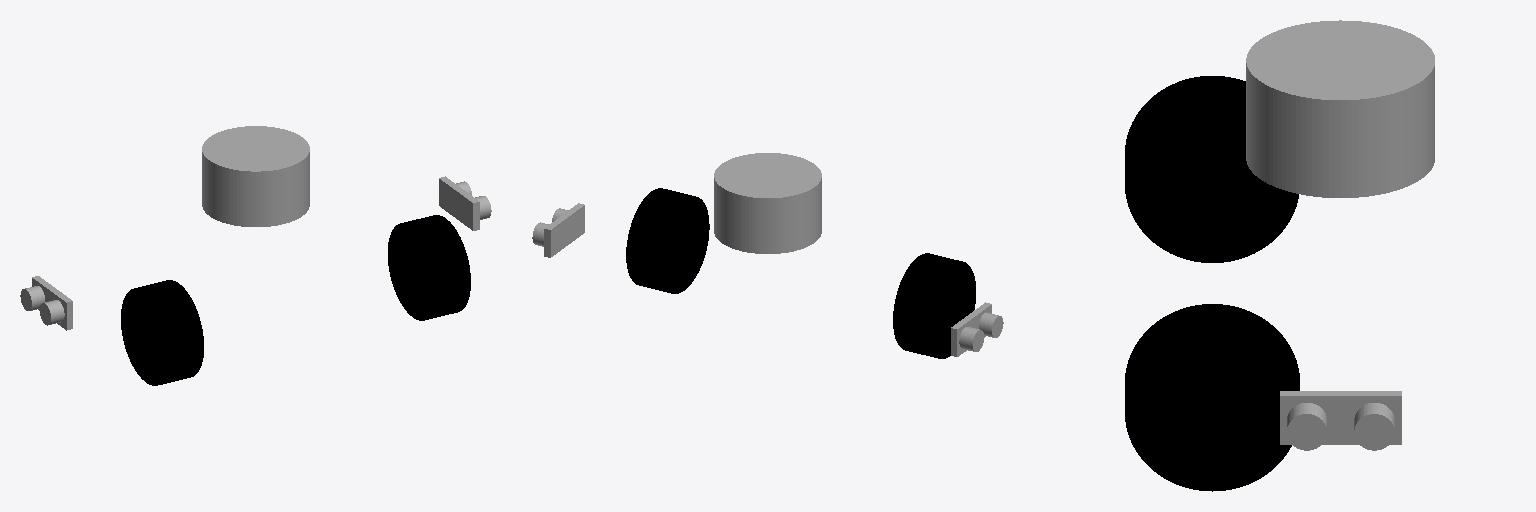
The robot description file, URDF, robot "assembly_3":
<?xml version="1.0"?>
<robot name="assembly_3" xmlns:xacro="http://www.ros.org/wiki/xacro">

<material name="silver">
  <color rgba="0.700 0.700 0.700 1.000"/>
</material>

<material name="black">
  <color rgba="0 0 0 1"/>
</material>

<!-- BASE LINK -->
<link name="base_link">
  <inertial>
    <origin xyz="-6.745525765719935e-05 0.0012816498954868177 0.0354047315459432" rpy="0 0 0"/>
    <mass value="37.821366170820795"/>
    <inertia ixx="0.23125" iyy="0.223709" izz="0.423982" ixy="-0.000124" iyz="0.000747" ixz="-3.9e-05"/>
  </inertial>
  <visual>
    <origin xyz="0 0 0" rpy="0 0 0"/>
    <geometry>
      <mesh filename="package://r2d10/meshes/base_link.stl" scale="0.001 0.001 0.001"/>
    </geometry>
    <material name="silver"/> 
  </visual>
  <collision>
    <origin xyz="0 0 0" rpy="0 0 0"/>
    <geometry>
      <mesh filename="package://r2d10/meshes/base_link.stl" scale="0.001 0.001 0.001"/>
    </geometry>
  </collision>
</link>

<!-- CASTER LINK -->
<link name="caster_1">
  <inertial>
    <origin xyz="0.0 0.11 -0.0043996518255540636" rpy="0 0 0"/>
    <mass value="0.0707011858312227"/>
    <inertia ixx="6e-06" iyy="6e-06" izz="1e-05" ixy="0.0" iyz="-0.0" ixz="0.0"/>
  </inertial>
  <visual>
    <origin xyz="-0.0 -0.0 -0.0" rpy="0 0 0"/>
    <geometry>
      <mesh filename="package://r2d10/meshes/caster_1.stl" scale="0.001 0.001 0.001"/>
    </geometry>
    <material name="silver"/>
  </visual>
  <collision>
    <origin xyz="-0.0 -0.0 -0.0" rpy="0 0 0"/>
    <geometry>
      <mesh filename="package://r2d10/meshes/caster_1.stl" scale="0.001 0.001 0.001"/>
    </geometry>
  </collision>
</link>

<!-- LEFT WHEEL LINK -->
<link name="left_wheel_1">
  <inertial>
    <origin xyz="-0.012500000000000011 0.0 0.0" rpy="0 0 0"/>
    <mass value="0.6512177959195155"/>
    <inertia ixx="0.000344" iyy="0.000206" izz="0.000206" ixy="0.0" iyz="-0.0" ixz="0.0"/>
  </inertial>
  <visual>
    <origin xyz="0.085 0.0475 -0.02" rpy="0 0 0"/>
    <geometry>
      <mesh filename="package://r2d10/meshes/left_wheel_1.stl" scale="0.001 0.001 0.001"/>
    </geometry>
    <material name="black"/>
  </visual>
  <collision>
    <origin xyz="0.085 0.0475 -0.02" rpy="0 0 0"/>
    <geometry>
      <mesh filename="package://r2d10/meshes/left_wheel_1.stl" scale="0.001 0.001 0.001"/>
    </geometry>
  </collision>
</link>

<!-- RIGHT WHEEL LINK -->
<link name="right_wheel_1">
  <inertial>
    <origin xyz="0.012500000000000108 0.0 -6.938893903907228e-18" rpy="0 0 0"/>
    <mass value="0.6512177959195155"/>
    <inertia ixx="0.000344" iyy="0.000206" izz="0.000206" ixy="0.0" iyz="0.0" ixz="0.0"/>
  </inertial>
  <visual>
    <origin xyz="-0.09 0.0475 -0.02" rpy="0 0 0"/>
    <geometry>
      <mesh filename="package://r2d10/meshes/right_wheel_1.stl" scale="0.001 0.001 0.001"/>
    </geometry>
    <material name="black"/>
  </visual>
  <collision>
    <origin xyz="-0.09 0.0475 -0.02" rpy="0 0 0"/>
    <geometry>
      <mesh filename="package://r2d10/meshes/right_wheel_1.stl" scale="0.001 0.001 0.001"/>
    </geometry>
  </collision>
</link>

<!-- ULTRASONIC FORWARD LINK -->
<link name="ultrasonic_forward_1">
  <inertial>
    <origin xyz="-6.89984745874354e-13 0.005799256348663379 -6.55503359925369e-11" rpy="0 0 0"/>
    <mass value="0.06306919012201337"/>
    <inertia ixx="3e-06" iyy="1.2e-05" izz="1.2e-05" ixy="-0.0" iyz="0.0" ixz="-0.0"/>
  </inertial>
  <visual>
    <origin xyz="-0.0 -0.15 -0.035" rpy="0 0 0"/>
    <geometry>
      <mesh filename="package://r2d10/meshes/ultrasonic_forward_1.stl" scale="0.001 0.001 0.001"/>
    </geometry>
    <material name="silver"/>
  </visual>
  <collision>
    <origin xyz="-0.0 -0.15 -0.035" rpy="0 0 0"/>
    <geometry>
      <mesh filename="package://r2d10/meshes/ultrasonic_forward_1.stl" scale="0.001 0.001 0.001"/>
    </geometry>
  </collision>
</link>

<!-- ULTRASONIC LEFT LINK -->
<link name="ultrasonic_left_1">
  <inertial>
    <origin xyz="-0.005799256348663379 -6.899762237296075e-13 -6.55503359925369e-11" rpy="0 0 0"/>
    <mass value="0.06306919012201337"/>
    <inertia ixx="1.2e-05" iyy="3e-06" izz="1.2e-05" ixy="0.0" iyz="-0.0" ixz="-0.0"/>
  </inertial>
  <visual>
    <origin xyz="0.15 -0.0 -0.035" rpy="0 0 0"/>
    <geometry>
      <mesh filename="package://r2d10/meshes/ultrasonic_left_1.stl" scale="0.001 0.001 0.001"/>
    </geometry>
    <material name="silver"/>
  </visual>
  <collision>
    <origin xyz="0.15 -0.0 -0.035" rpy="0 0 0"/>
    <geometry>
      <mesh filename="package://r2d10/meshes/ultrasonic_left_1.stl" scale="0.001 0.001 0.001"/>
    </geometry>
  </collision>
</link>

<!-- ULTRASONIC RIGHT LINK -->
<link name="ultrasonic_right_1">
  <inertial>
    <origin xyz="0.005799256348663379 6.899932680191004e-13 -6.55503359925369e-11" rpy="0 0 0"/>
    <mass value="0.06306919012201337"/>
    <inertia ixx="1.2e-05" iyy="3e-06" izz="1.2e-05" ixy="0.0" iyz="0.0" ixz="0.0"/>
  </inertial>
  <visual>
    <origin xyz="-0.15 -0.0 -0.035" rpy="0 0 0"/>
    <geometry>
      <mesh filename="package://r2d10/meshes/ultrasonic_right_1.stl" scale="0.001 0.001 0.001"/>
    </geometry>
    <material name="silver"/>
  </visual>
  <collision>
    <origin xyz="-0.15 -0.0 -0.035" rpy="0 0 0"/>
    <geometry>
      <mesh filename="package://r2d10/meshes/ultrasonic_right_1.stl" scale="0.001 0.001 0.001"/>
    </geometry>
  </collision>
</link>

<!-- LIDAR LINK -->
<link name="lidar_1">
  <inertial>
    <origin xyz="7.385233546074017e-18 0.0 0.01999999999999999" rpy="0 0 0"/>
    <mass value="1.2084136142033137"/>
    <inertia ixx="0.000531" iyy="0.000531" izz="0.00074" ixy="0.0" iyz="0.0" ixz="0.0"/>
  </inertial>
  <visual>
    <origin xyz="-0.0 -0.0 -0.07" rpy="0 0 0"/>
    <geometry>
      <mesh filename="package://r2d10/meshes/lidar_1.stl" scale="0.001 0.001 0.001"/>
    </geometry>
    <material name="silver"/>
  </visual>
  <collision>
    <origin xyz="-0.0 -0.0 -0.07" rpy="0 0 0"/>
    <geometry>
      <mesh filename="package://r2d10/meshes/lidar_1.stl" scale="0.001 0.001 0.001"/>
    </geometry>
  </collision>
</link>

<!-- JOINTS -->
<joint name="Rigid_1" type="fixed">
  <origin xyz="0.0 0.0 0.0" rpy="0 0 0"/>
  <parent link="base_link"/>
  <child link="caster_1"/>
</joint>

<joint name="Revolute_2" type="continuous">
  <origin xyz="-0.085 -0.0475 0.02" rpy="0 0 0"/>
  <parent link="base_link"/>
  <child link="left_wheel_1"/>
  <axis xyz="-1.0 0.0 0.0"/>
</joint>

<joint name="Revolute_3" type="continuous">
  <origin xyz="0.09 -0.0475 0.02" rpy="0 0 0"/>
  <parent link="base_link"/>
  <child link="right_wheel_1"/>
  <axis xyz="-1.0 0.0 0.0"/>
</joint>

<joint name="Rigid_5" type="fixed">
  <origin xyz="0.0 0.15 0.035" rpy="0 0 0"/>
  <parent link="base_link"/>
  <child link="ultrasonic_forward_1"/>
</joint>

<joint name="Rigid_6" type="fixed">
  <origin xyz="-0.15 0.0 0.035" rpy="0 0 0"/>
  <parent link="base_link"/>
  <child link="ultrasonic_left_1"/>
</joint>

<joint name="Rigid_7" type="fixed">
  <origin xyz="0.15 0.0 0.035" rpy="0 0 0"/>
  <parent link="base_link"/>
  <child link="ultrasonic_right_1"/>
</joint>

<joint name="Rigid_9" type="fixed">
  <origin xyz="0.0 0.0 0.07" rpy="0 0 0"/>
  <parent link="base_link"/>
  <child link="lidar_1"/>
</joint>

<!-- GAZEBO SENSOR PLUGINS - MUST BE OUTSIDE LINK DEFINITIONS -->

<!-- LIDAR SENSOR -->
<gazebo reference="lidar_1">
  <sensor name="lidar_1" type="gpu_lidar">
    <update_rate>20</update_rate>
    <lidar>
      <scan>
        <horizontal>
          <samples>720</samples>
          <resolution>1</resolution>
          <min_angle>-3.14159</min_angle>
          <max_angle>3.14159</max_angle>
        </horizontal>
        <vertical>
          <samples>1</samples>
          <resolution>1</resolution>
          <min_angle>0</min_angle>
          <max_angle>0</max_angle>
        </vertical>
      </scan>
      <range>
        <min>0.12</min>
        <max>8.0</max>
        <resolution>0.01</resolution>
      </range>
    </lidar>
    <always_on>1</always_on>
    <visualize>true</visualize>

<!-- ULTRASONIC FORWARD SENSOR -->
<gazebo reference="ultrasonic_forward_1">
  <sensor name="ultrasonic_forward_sensor" type="gpu_ray">
    <topic>ultrasonic_forward</topic>
    <ros>
  <frame_name>ultrasonic_forward_1</frame_name>
  <use_tf_prefix>false</use_tf_prefix>
</ros>
    <update_rate>10</update_rate>
    <ray>
      <scan>
        <horizontal>
          <samples>5</samples>
          <resolution>1</resolution>
          <min_angle>-0.12</min_angle>
          <max_angle>0.12</max_angle>
        </horizontal>
        <vertical>
          <samples>5</samples>
          <resolution>1</resolution>
          <min_angle>-0.12</min_angle>
          <max_angle>0.12</max_angle>
        </vertical>
      </scan>
      <range>
        <min>0.02</min>
        <max>4.0</max>
        <resolution>0.01</resolution>
      </range>
    </ray>
    <always_on>1</always_on>
    <visualize>true</visualize>
  </sensor>
</gazebo>

<!-- ULTRASONIC LEFT SENSOR -->
<gazebo reference="ultrasonic_left_1">
  <sensor name="ultrasonic_left_sensor" type="gpu_ray">
    <topic>ultrasonic_left</topic>
    <ros>
  <frame_name>ultrasonic_left_1</frame_name>
  <use_tf_prefix>false</use_tf_prefix>
</ros>
    <update_rate>10</update_rate>
    <ray>
      <scan>
        <horizontal>
          <samples>5</samples>
          <resolution>1</resolution>
          <min_angle>-0.12</min_angle>
          <max_angle>0.12</max_angle>
        </horizontal>
        <vertical>
          <samples>5</samples>
          <resolution>1</resolution>
          <min_angle>-0.12</min_angle>
          <max_angle>0.12</max_angle>
        </vertical>
      </scan>
      <range>
        <min>0.02</min>
        <max>4.0</max>
        <resolution>0.01</resolution>
      </range>
    </ray>
    <always_on>1</always_on>
    <visualize>true</visualize>
  </sensor>
</gazebo>

<!-- ULTRASONIC RIGHT SENSOR -->
<gazebo reference="ultrasonic_right_1">
  <sensor name="ultrasonic_right_sensor" type="gpu_ray">
    <topic>ultrasonic_right</topic>
    <ros>
  <frame_name>ultrasonic_right_1</frame_name>
  <use_tf_prefix>false</use_tf_prefix>
</ros>
    <update_rate>10</update_rate>
    <ray>
      <scan>
        <horizontal>
          <samples>5</samples>
          <resolution>1</resolution>
          <min_angle>-0.12</min_angle>
          <max_angle>0.12</max_angle>
        </horizontal>
        <vertical>
          <samples>5</samples>
          <resolution>1</resolution>
          <min_angle>-0.12</min_angle>
          <max_angle>0.12</max_angle>
        </vertical>
      </scan>
      <range>
        <min>0.02</min>
        <max>4.0</max>
        <resolution>0.01</resolution>
      </range>
    </ray>
    <always_on>1</always_on>
    <visualize>true</visualize>
  </sensor>
</gazebo>

    <!-- ROS2 topic plugin -->
    <plugin name="gazebo_ros_laser" filename="libgazebo_ros_laser.so">
      <topicName>scan</topicName>
      <frameName>lidar_1</frameName>
    </plugin>
  </sensor>
</gazebo>

<!-- DIFFERENTIAL DRIVE CONTROLLER PLUGIN -->
<gazebo>
  <plugin filename="gz-sim-diff-drive-system" name="gz::sim::systems::DiffDrive">
    <left_joint>Revolute_2</left_joint>
    <right_joint>Revolute_3</right_joint>
    <wheel_separation>0.175</wheel_separation>
    <wheel_radius>0.04</wheel_radius>
    <odom_publish_frequency>50</odom_publish_frequency>
    <topic>cmd_vel</topic>
    <odom_topic>odometry</odom_topic>
    <frame_id>odom</frame_id>
    <child_frame_id>base_link</child_frame_id>
  </plugin>
</gazebo>

<!-- JOINT STATE PUBLISHER PLUGIN -->
<gazebo>
  <plugin filename="gz-sim-joint-state-publisher-system" name="gz::sim::systems::JointStatePublisher">
  </plugin>
</gazebo>

<!-- POSE PUBLISHER PLUGIN -->
<gazebo>
  <plugin filename="gz-sim-pose-publisher-system" name="gz::sim::systems::PosePublisher">
    <publish_link_pose>true</publish_link_pose>
    <use_pose_vector_msg>true</use_pose_vector_msg>
    <static_publisher>false</static_publisher>
    <static_update_frequency>1</static_update_frequency>
  </plugin>
</gazebo>

</robot>

--- Render facts (derived) ---
Views: 3 orthographic renders of the robot side by side, from view 1: azimuth 30°, elevation 25°; view 2: azimuth 150°, elevation 25°; view 3: azimuth 270°, elevation 25°.
Model assembly_3 with 8 links and 7 joints (2 continuous, 5 fixed), rooted at base_link, posed all joints at 0.
Links seen in each view (by area): view 1: lidar_1, left_wheel_1, right_wheel_1, ultrasonic_right_1, ultrasonic_left_1; view 2: lidar_1, right_wheel_1, left_wheel_1, ultrasonic_left_1, ultrasonic_right_1; view 3: lidar_1, right_wheel_1, left_wheel_1, ultrasonic_right_1.
Link boxes in pixels (<box>): lidar_1: <box>202,126,309,226</box>; left_wheel_1: <box>121,280,203,385</box>; right_wheel_1: <box>388,215,470,320</box>; ultrasonic_right_1: <box>439,176,491,230</box>; ultrasonic_left_1: <box>20,276,72,330</box>; lidar_1: <box>714,153,821,253</box>; right_wheel_1: <box>626,188,709,293</box>; left_wheel_1: <box>893,253,975,358</box>; ultrasonic_left_1: <box>951,302,1003,356</box>; ultrasonic_right_1: <box>532,203,584,257</box>; lidar_1: <box>1246,20,1434,197</box>; right_wheel_1: <box>1125,304,1299,491</box>; left_wheel_1: <box>1125,76,1298,262</box>; ultrasonic_right_1: <box>1280,391,1401,450</box>.
Bounding box of the posed robot: 0.33 × 0.115 × 0.1225 m (x, y, z).
Meshes: 8 distinct files referenced, 5 mesh visuals loaded (5 binary STL); not drawn: 3 (file found but could not be loaded).